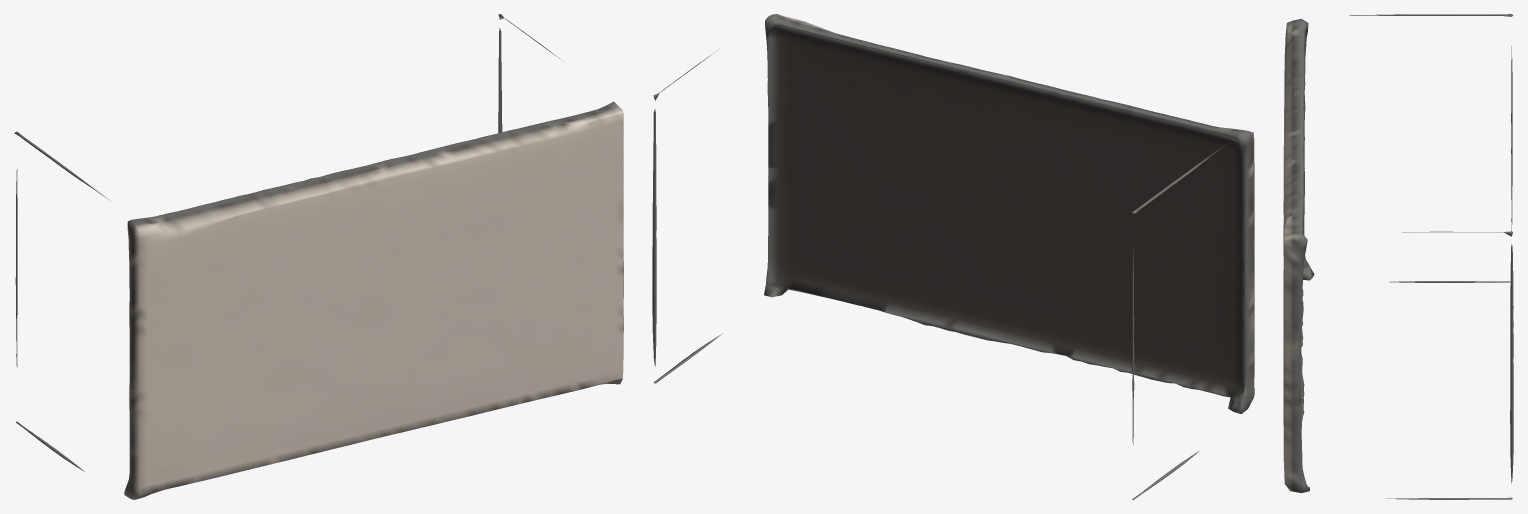
Rendered from a table.obj.
The picture shows the model from 3 angles, left to right: view 1: azimuth 30°, elevation 25°; view 2: azimuth 150°, elevation 25°; view 3: azimuth 270°, elevation 25°; orthographic projection. The views are drawn at different scales.
Size of the model in its own units: 1 by 0.5709 by 0.444.
